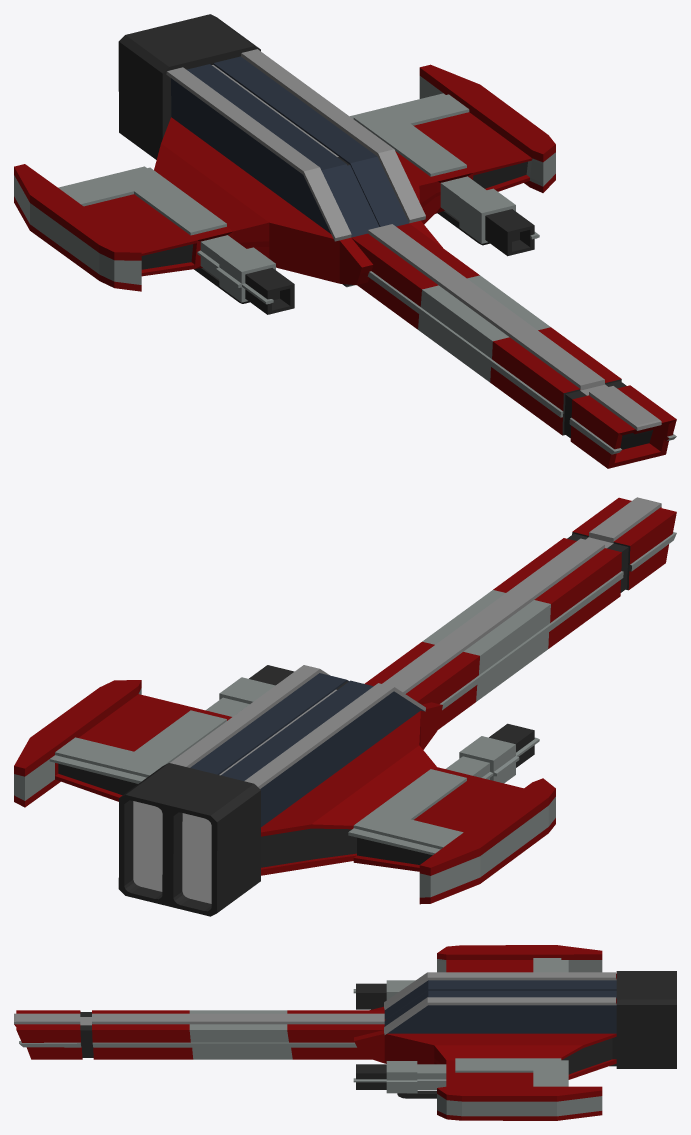
The model's file is Spaceship.fbx.
The picture shows the model from 3 angles, top to bottom: view 1: azimuth 30°, elevation 25°; view 2: azimuth 150°, elevation 25°; view 3: azimuth 270°, elevation 25°; orthographic projection. The views are drawn at different scales.
Visible parts, largest first — view 1: Spaceship; view 2: Spaceship; view 3: Spaceship.
Part boxes in pixels (left/top/right/bottom): Spaceship: left=14, top=14, right=676, bottom=468; Spaceship: left=14, top=497, right=676, bottom=916; Spaceship: left=14, top=945, right=676, bottom=1120.
Bounding box in the file's own units: 978 × 224 × 1812.
